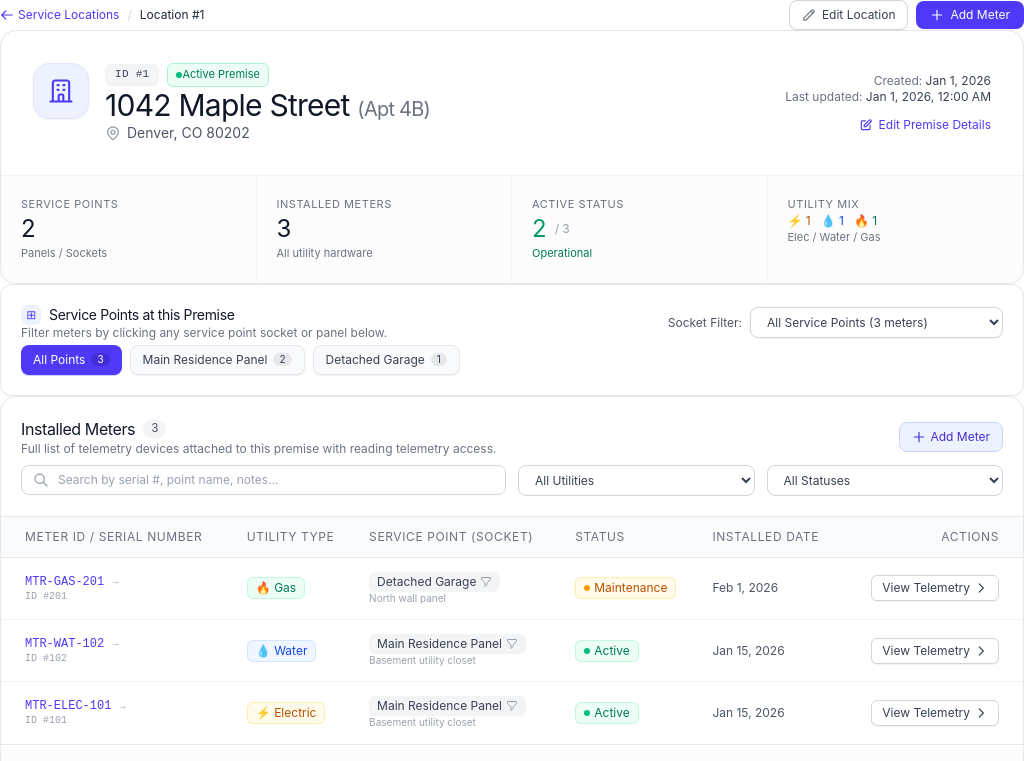
Test: ServiceLocationDetailView.vue › renders service point filter buttons and filters the meters table
Click the button "Detached Garage 1": (386, 360) [312,345,460,375]
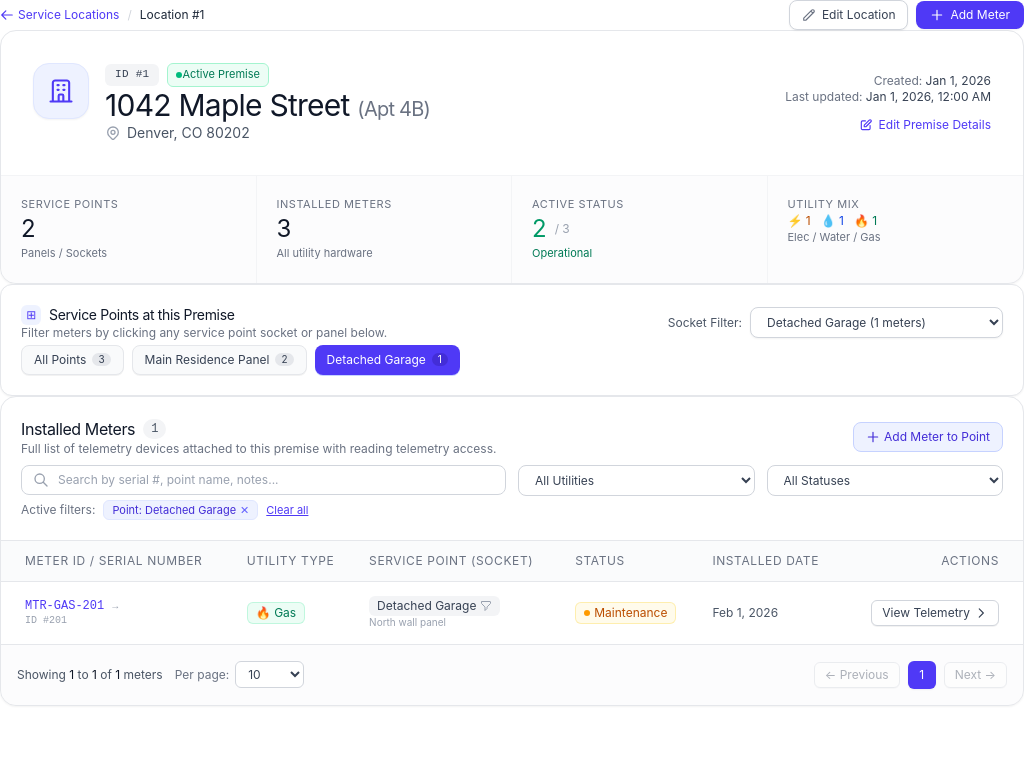
Expected: the text "MTR-GAS-201" is shown, [25,598,104,614]
Result: the text "MTR-ELEC-101" is gone
